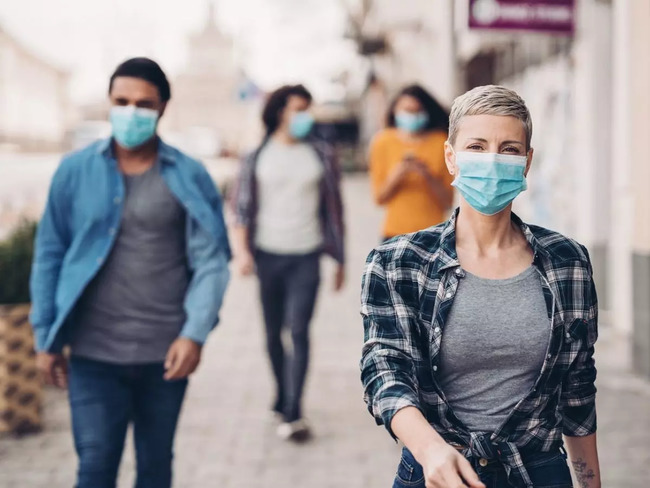Mask: (450, 147, 542, 222), (90, 104, 167, 151)
